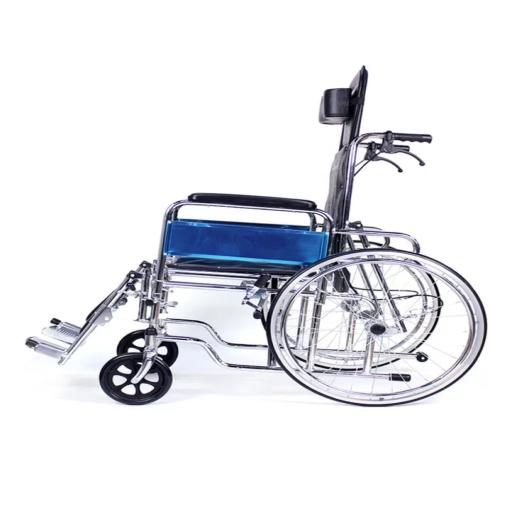wheelchair: (11, 60, 497, 470)
